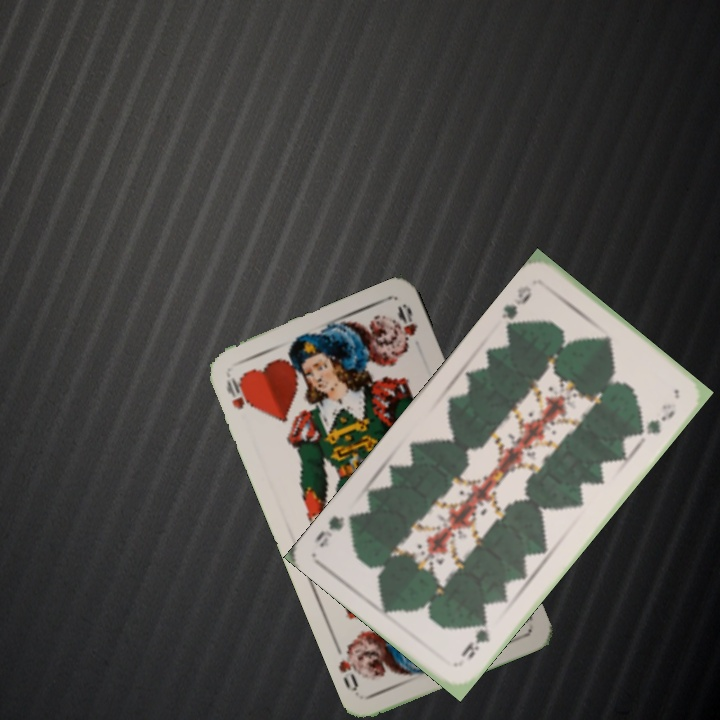G9: (497, 281, 535, 332), (456, 616, 492, 662)
HO: (222, 372, 258, 414)
